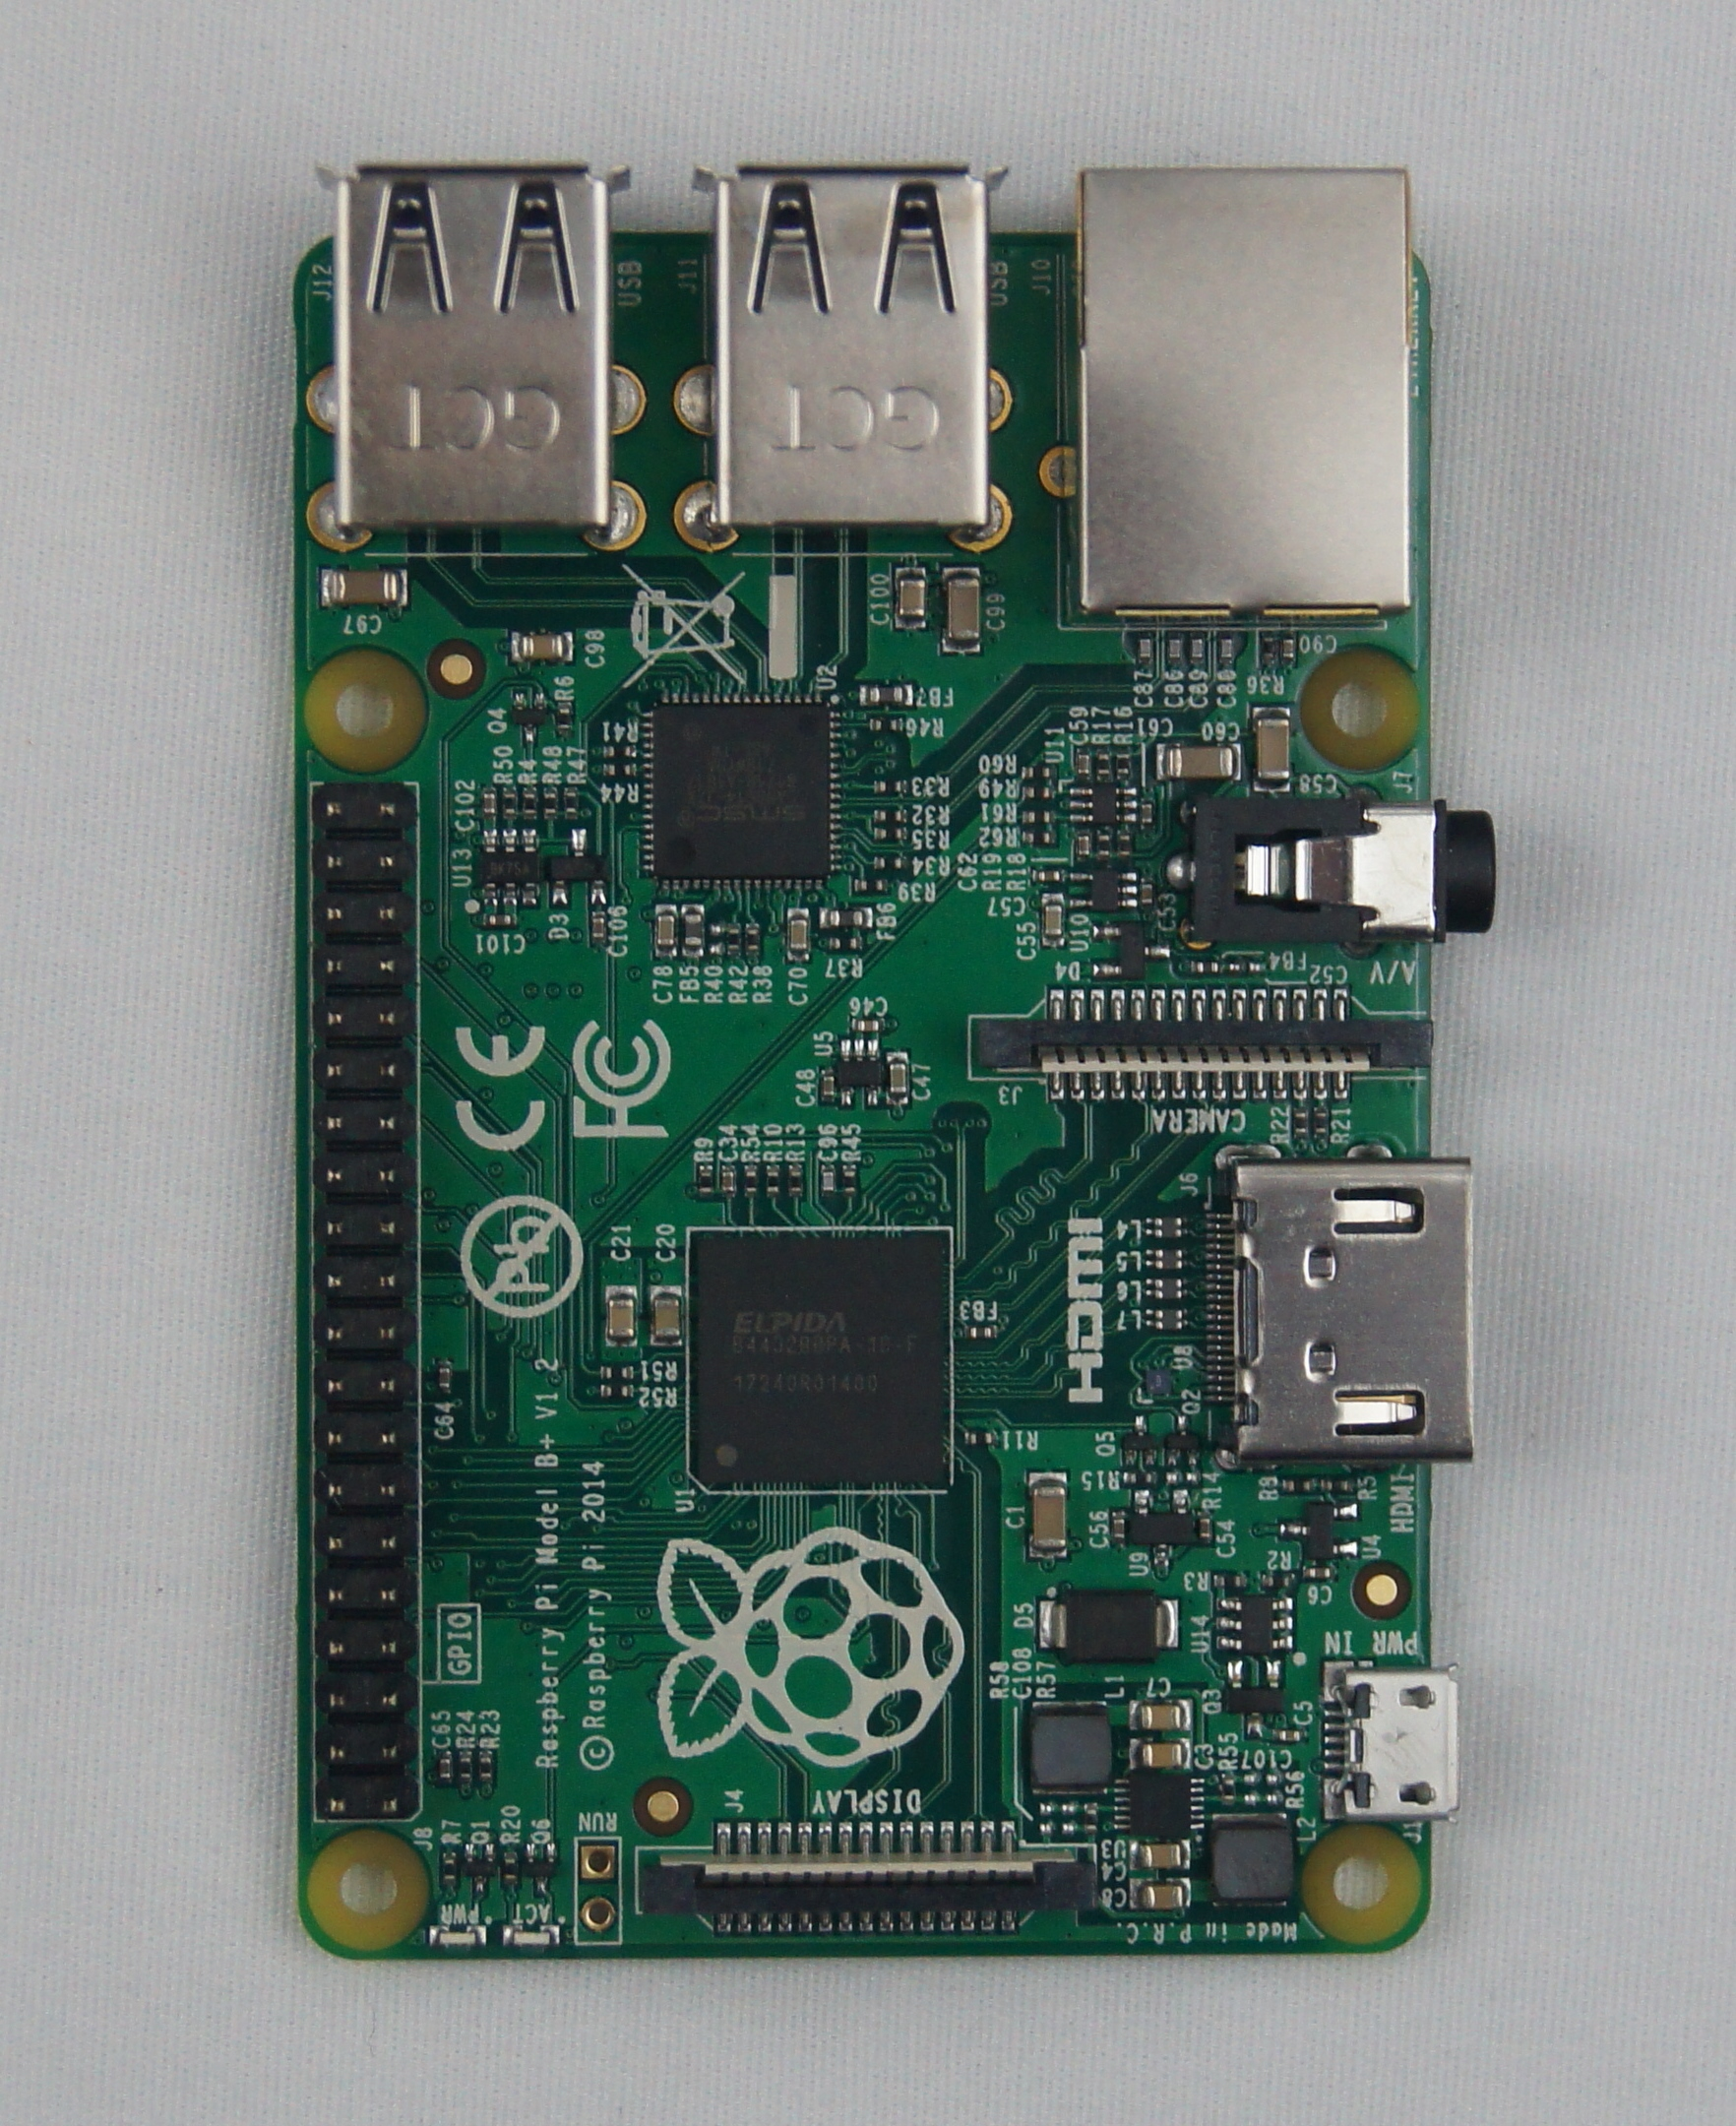resistor: (694, 1164, 717, 1197), (867, 715, 904, 735), (600, 761, 639, 779), (1259, 1572, 1293, 1589), (1321, 1478, 1355, 1496), (855, 878, 890, 893), (841, 1165, 860, 1194), (1213, 1573, 1247, 1589), (786, 1164, 804, 1194), (872, 855, 904, 871), (872, 779, 904, 795), (1023, 784, 1054, 800), (502, 789, 519, 818), (562, 788, 579, 816), (602, 745, 638, 759), (477, 1752, 494, 1780), (1023, 809, 1053, 825), (523, 788, 539, 818), (742, 1164, 758, 1194), (442, 1854, 457, 1884), (1123, 1471, 1157, 1485), (828, 936, 862, 950), (872, 809, 906, 823), (1019, 765, 1053, 779), (599, 1365, 632, 1379), (600, 1383, 634, 1397), (1284, 1478, 1316, 1492), (1293, 1109, 1309, 1137), (542, 786, 556, 816), (459, 1752, 473, 1782), (964, 1430, 993, 1444), (1220, 1776, 1236, 1801), (1314, 1109, 1328, 1135), (1097, 749, 1111, 775), (1192, 961, 1222, 973), (1023, 832, 1053, 844), (872, 828, 906, 839), (1116, 750, 1130, 775), (556, 705, 570, 729), (745, 927, 759, 952), (766, 1165, 779, 1194), (728, 924, 740, 950), (503, 1856, 516, 1882), (1263, 637, 1277, 660), (1097, 835, 1113, 855), (1120, 833, 1132, 856)
